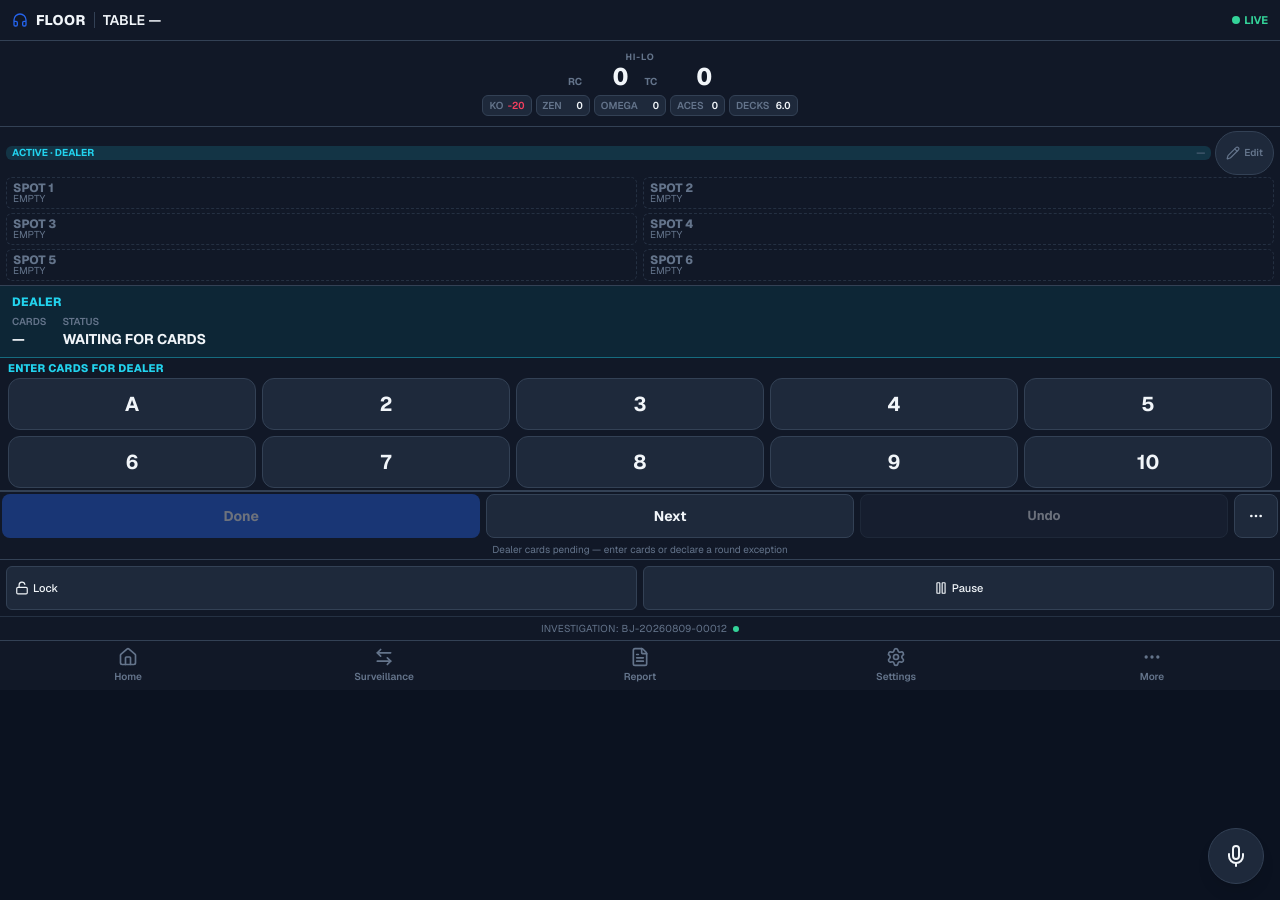
Scenario: FloorScreen — wager entry via ActiveSeatPanel, never a hidden tap (AGENTS.md operational UI rebuild §4/§8/§9, supersedes 1.14b's PlayerDetailBar) › selecting a freshly-occupied spot via a normal tap immediately surfaces SET BET — no separate discovery step
The image size is (1280, 900).
What coordinates should you click on to do the following:
click the button with test id "floor-seat-3"
I would click on:
 (35, 224)
Its box is [6,212,637,244].
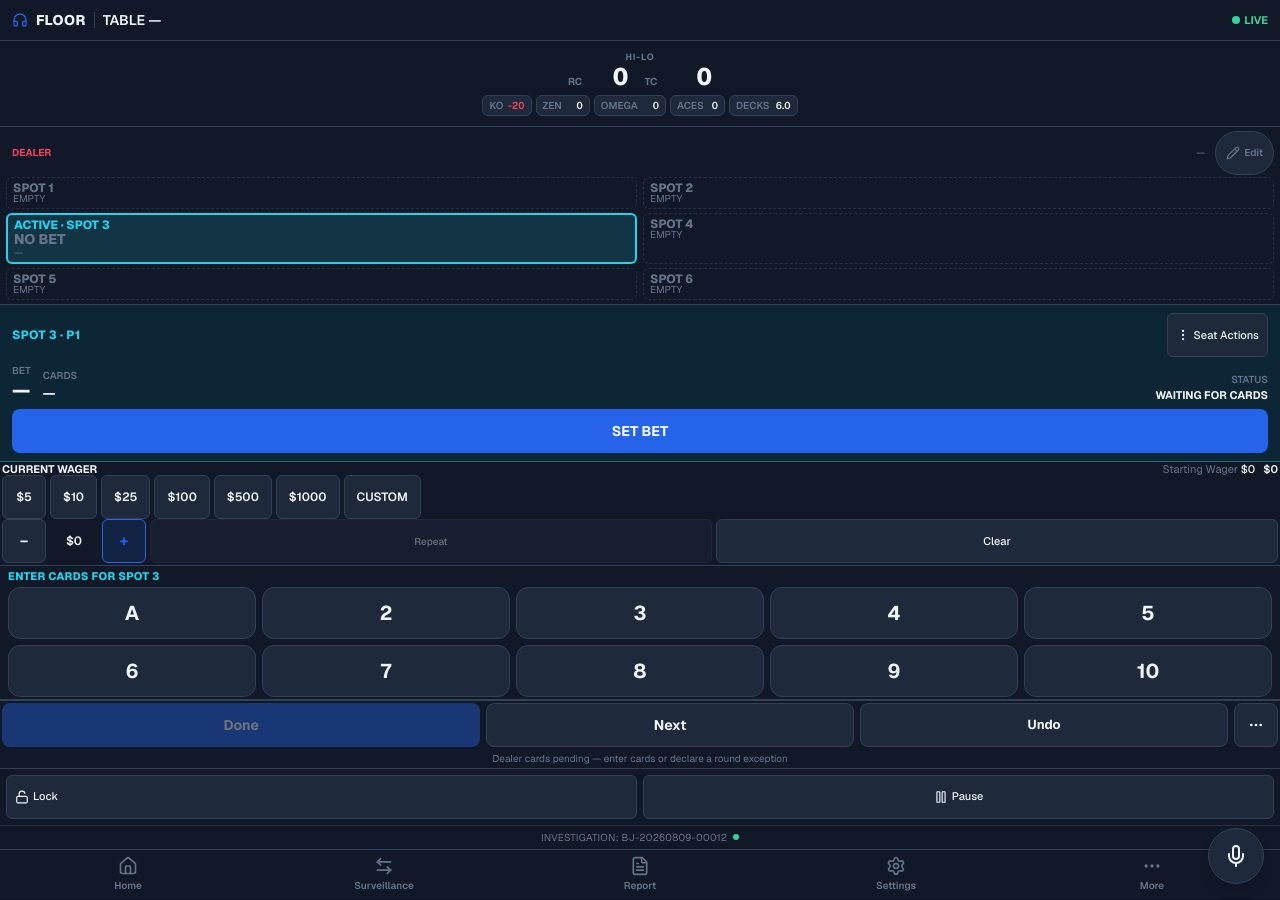
Expected: the button "SET BET" is shown, [12,409,1268,453]
